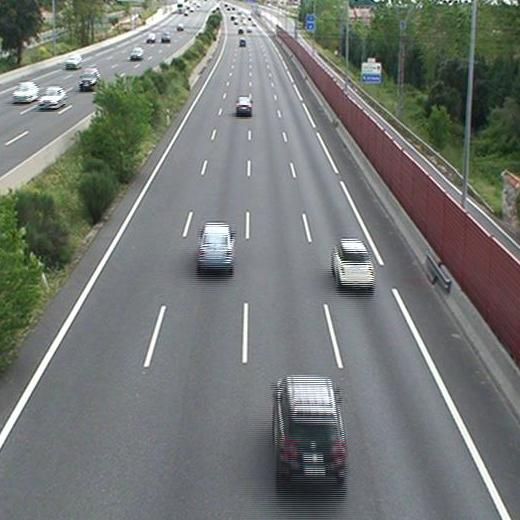car: (276, 377, 345, 477), (332, 240, 374, 287), (197, 224, 234, 269), (236, 96, 252, 114), (239, 38, 247, 47)
